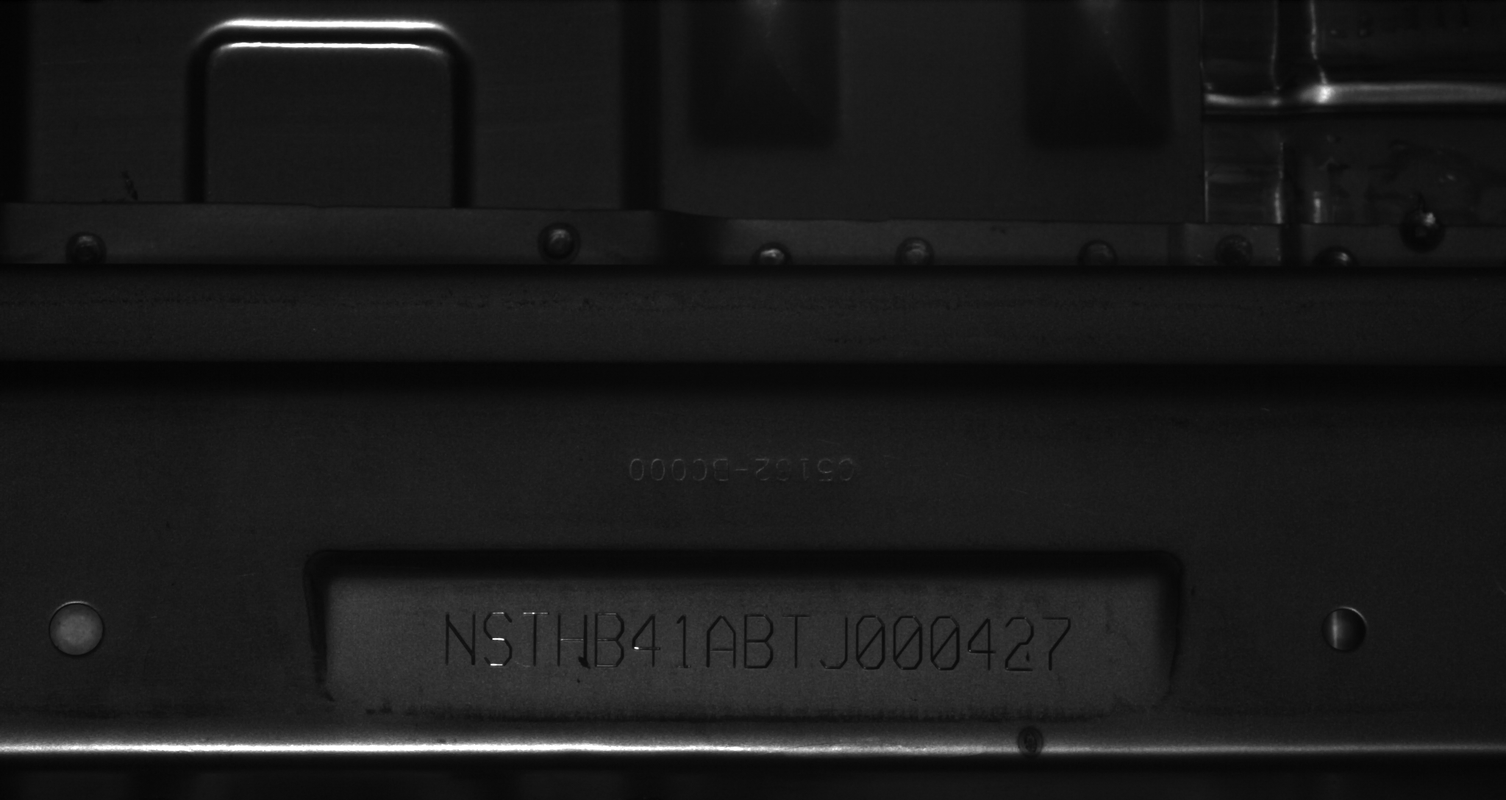bl7m_vin_plate: (320, 570, 1166, 713)
